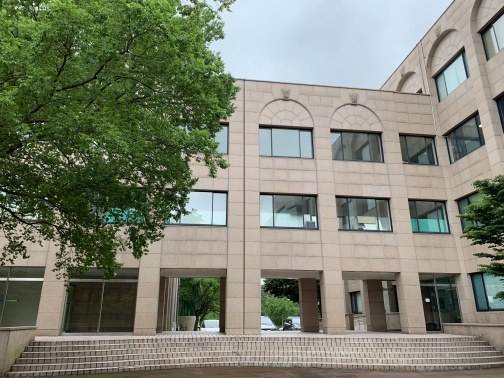Natural Science2: (387, 3, 504, 351)
